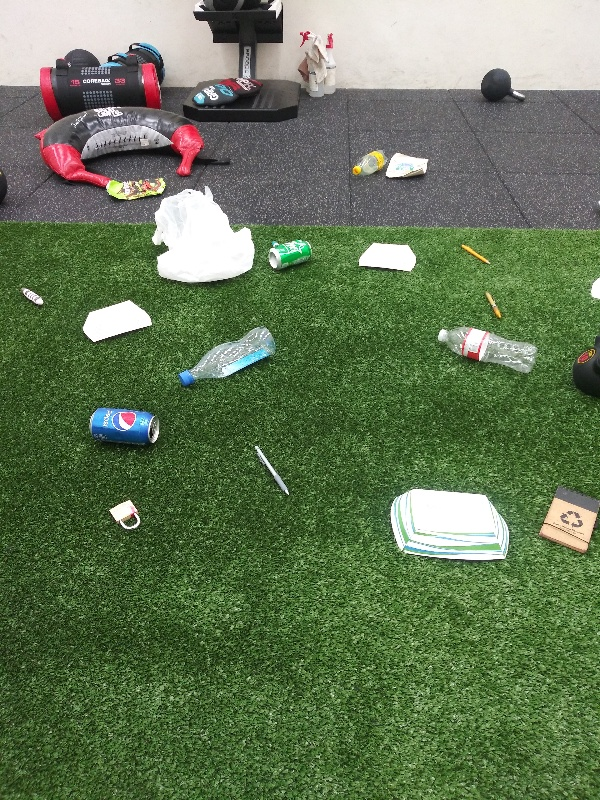bag: (101, 173, 172, 205), (381, 149, 433, 181)
bottle: (175, 323, 278, 390), (432, 324, 541, 375), (344, 144, 395, 181)
can: (84, 402, 167, 452), (265, 235, 318, 273)
plate: (383, 485, 521, 569), (78, 297, 157, 344), (352, 238, 419, 278)
